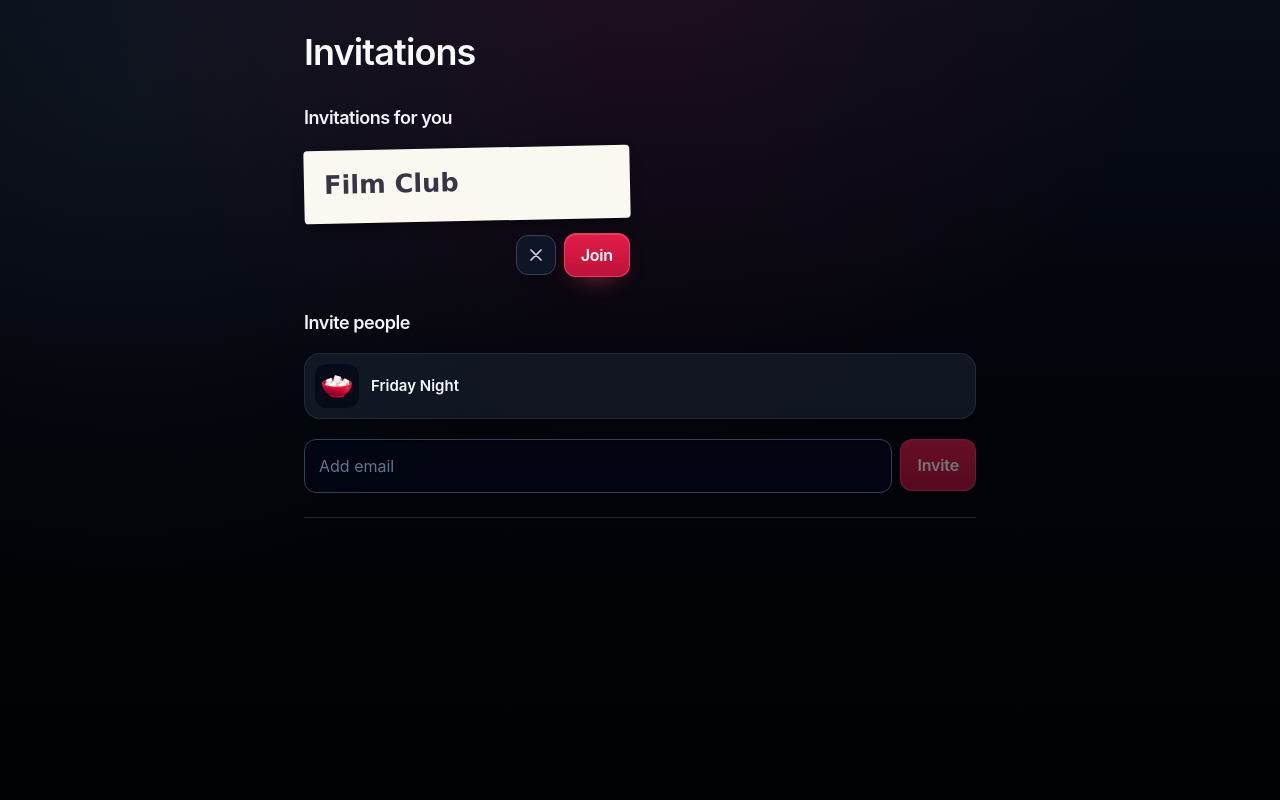
Scenario: InvitesPage › announces a completed decline
The width and height of the screenshot is (1280, 800).
Click the button named "decline invitation to Film Club": click(536, 255) [516, 235, 556, 275]
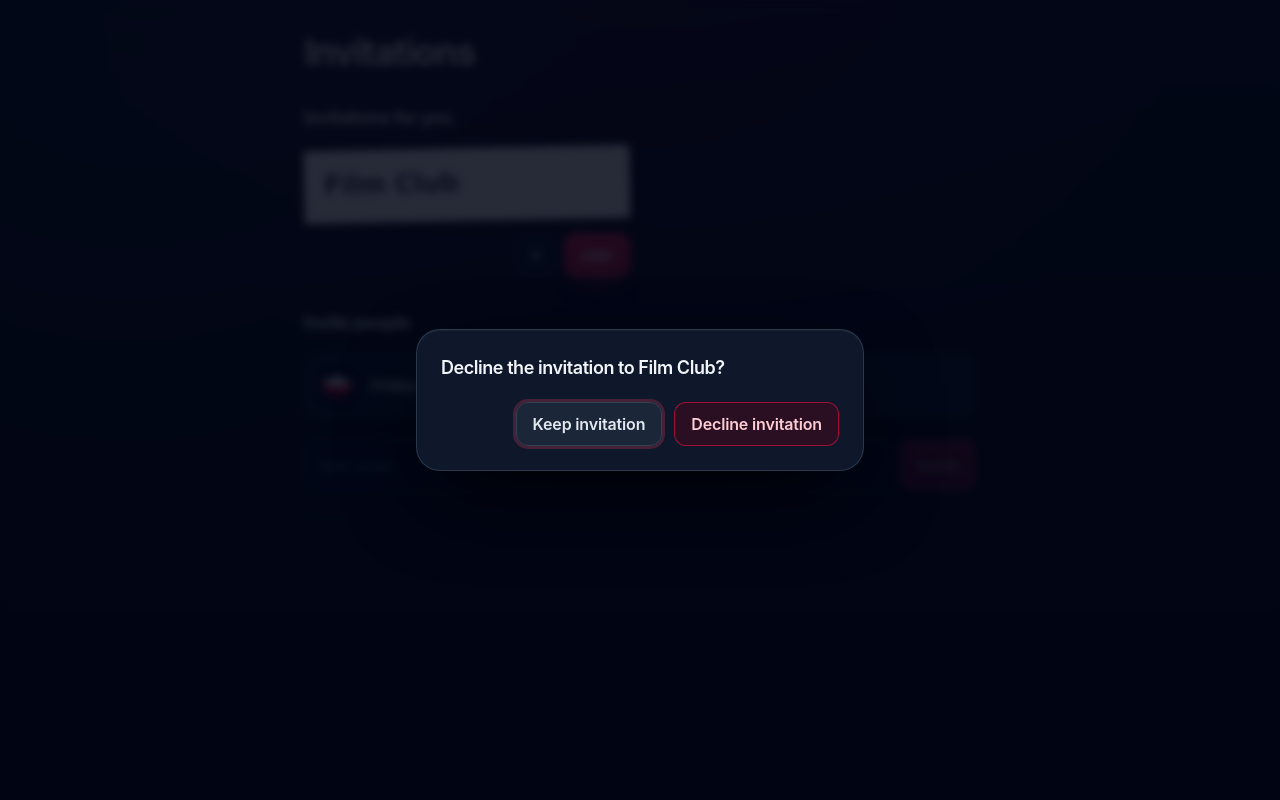
Click the button "Decline invitation": click(757, 424) [674, 402, 839, 446]
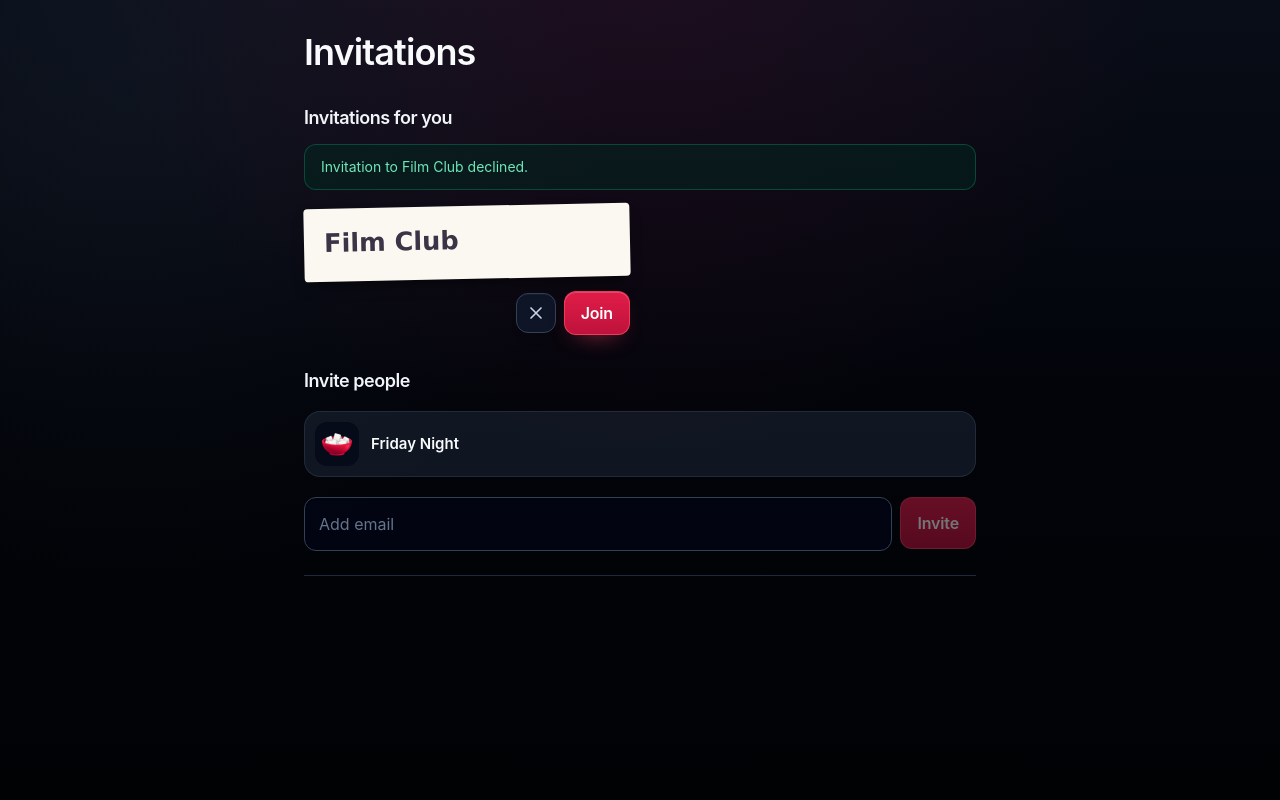
Expected: the text "Invitation to Film Club declined." is shown, [304, 144, 976, 190]
